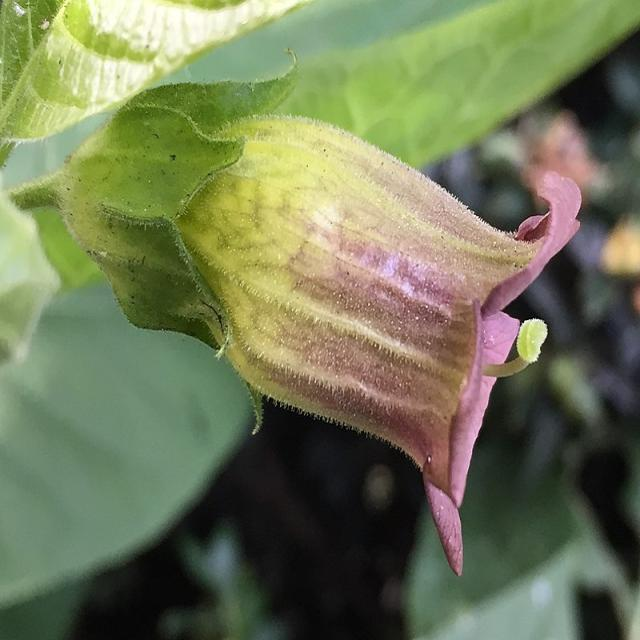Belladonna: (91, 60, 518, 467)
